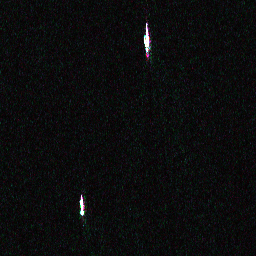ship: (142, 33, 152, 54), (77, 196, 86, 217)
